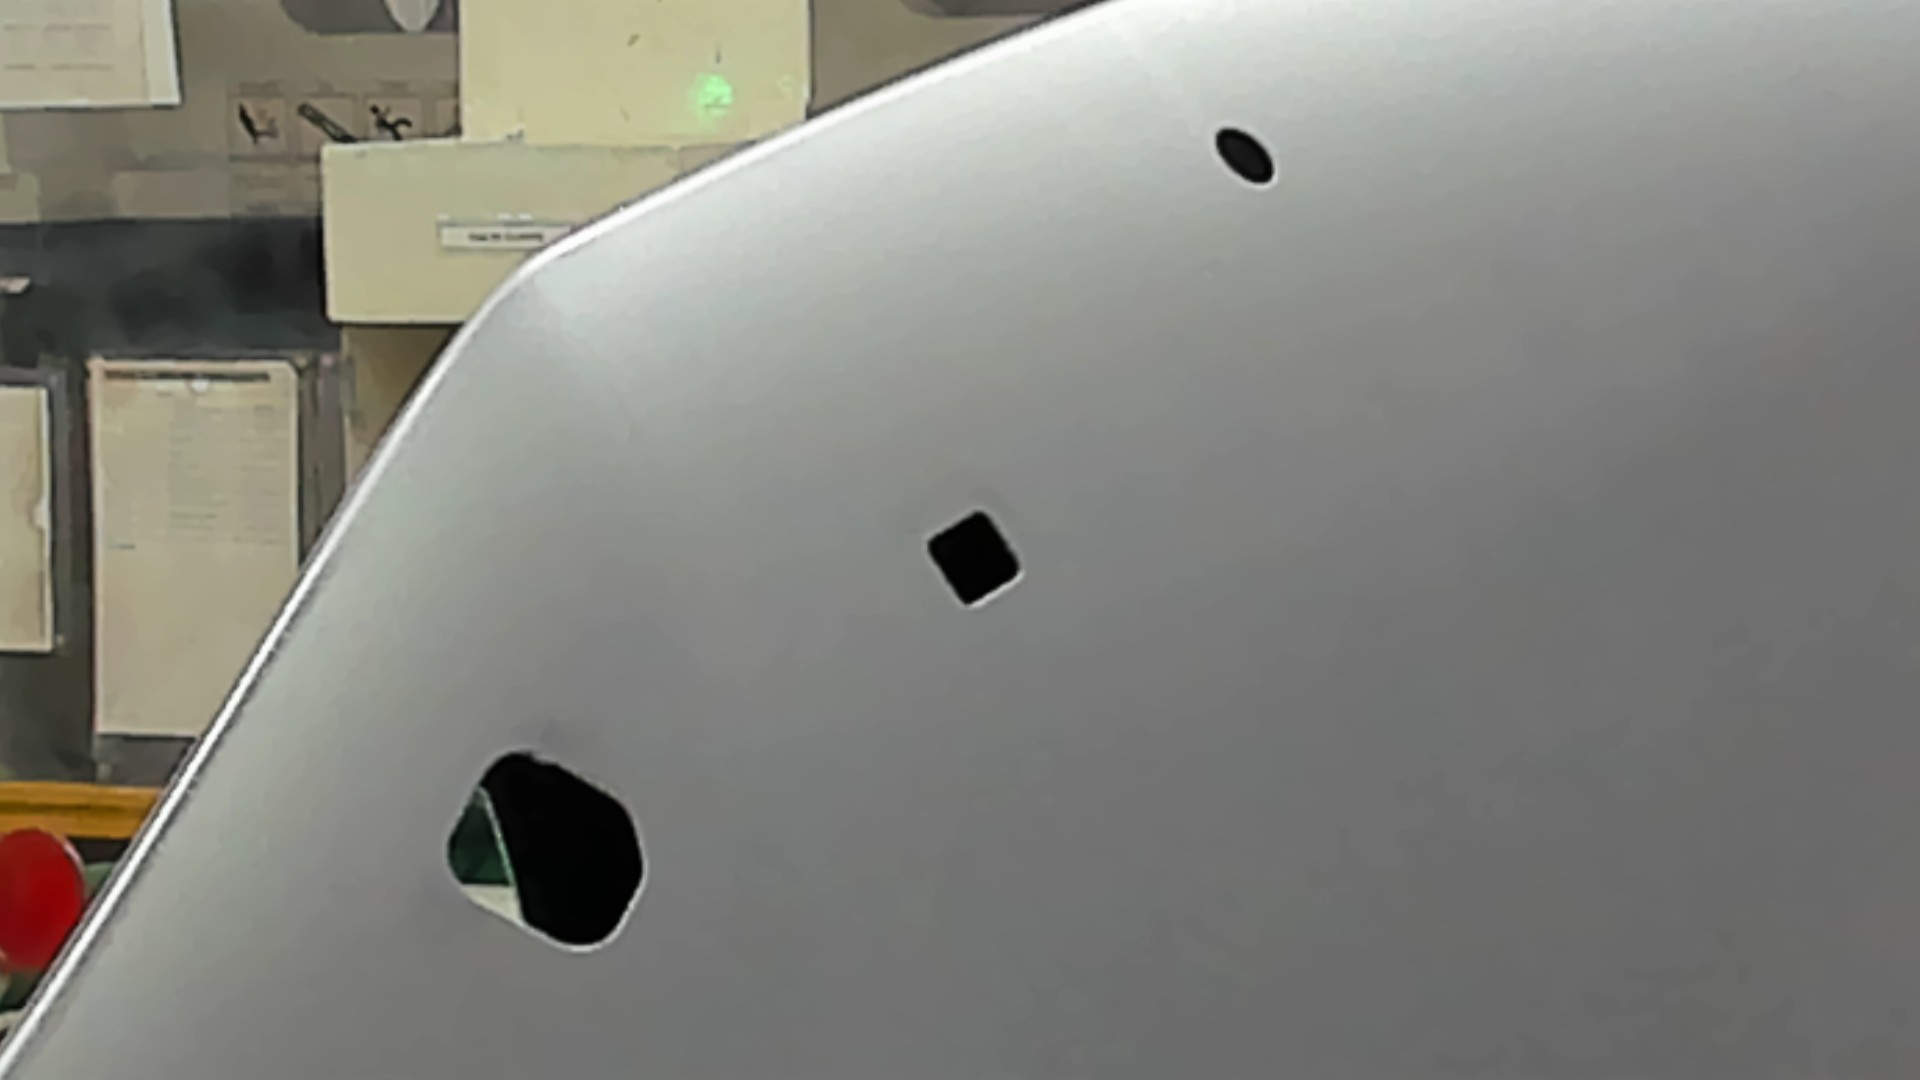chico: (1203, 117, 1280, 196)
grande: (434, 733, 663, 967)
mediano: (914, 506, 1048, 628)
